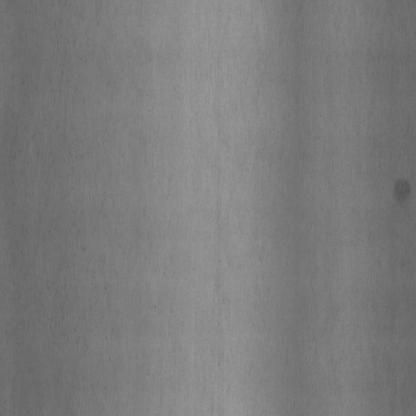oil_spot: (392, 172, 414, 208)
